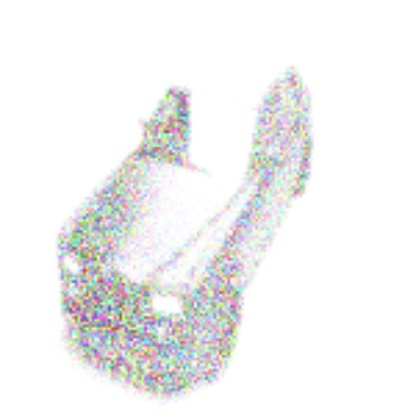Vehicle: (58, 58, 314, 393)
